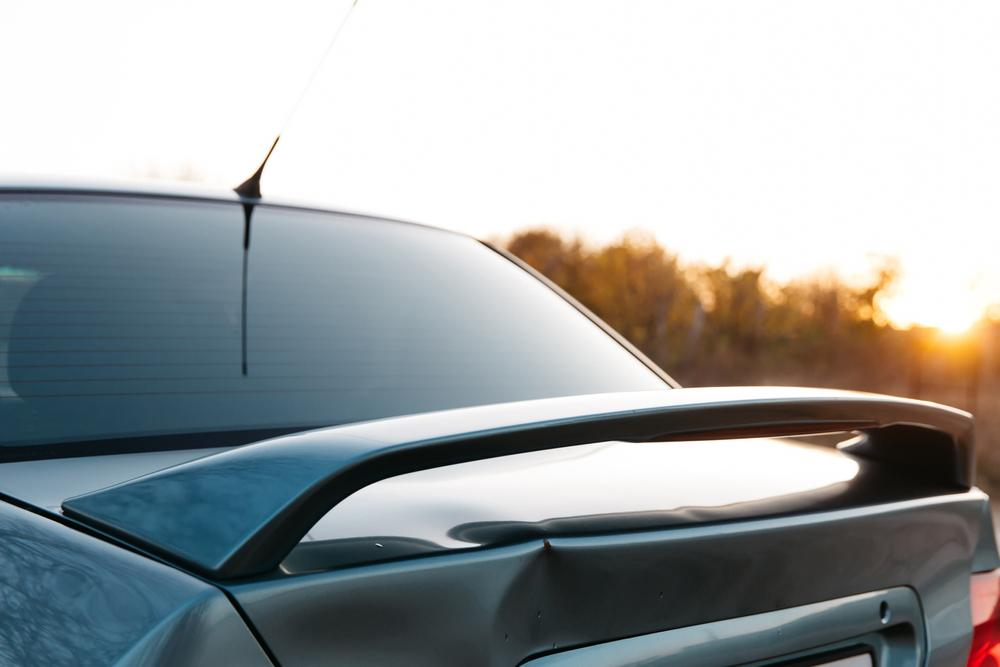dent: (485, 547, 619, 653)
